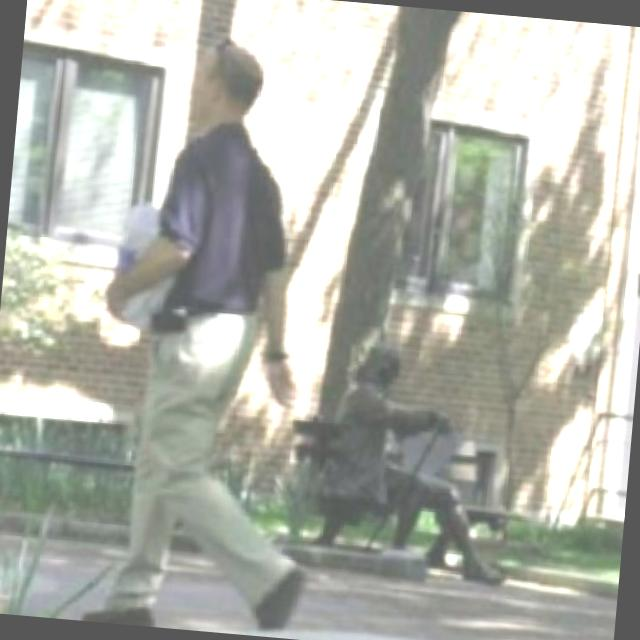Person: (69, 21, 356, 638)
